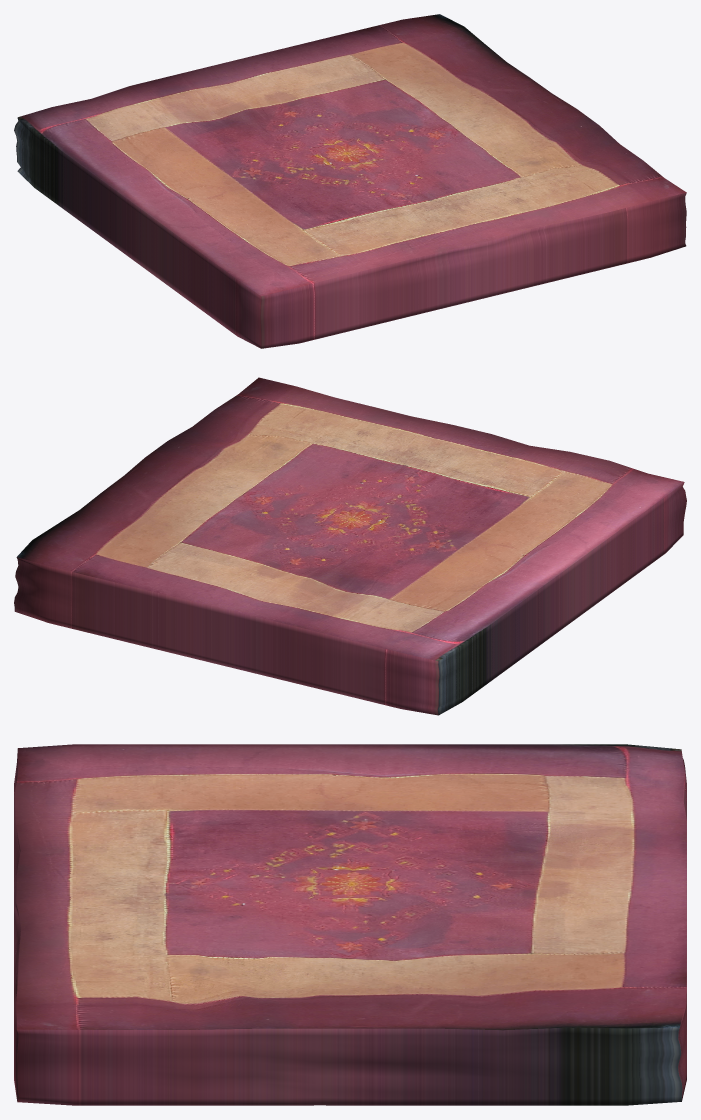
The model's file is Seat_Cushion.fbx.
The picture shows the model from 3 angles, top to bottom: view 1: azimuth 30°, elevation 25°; view 2: azimuth 150°, elevation 25°; view 3: azimuth 270°, elevation 25°; orthographic projection. The views are drawn at different scales.
Parts seen in each view (by area): view 1: Plane; view 2: Plane; view 3: Plane.
Boxes of the visible parts, x1,y1,x2,y2 form: Plane: [14, 14, 686, 348]; Plane: [14, 377, 686, 715]; Plane: [14, 744, 686, 1105].
Bounding box in the file's own units: 200 × 25.24 × 200.
